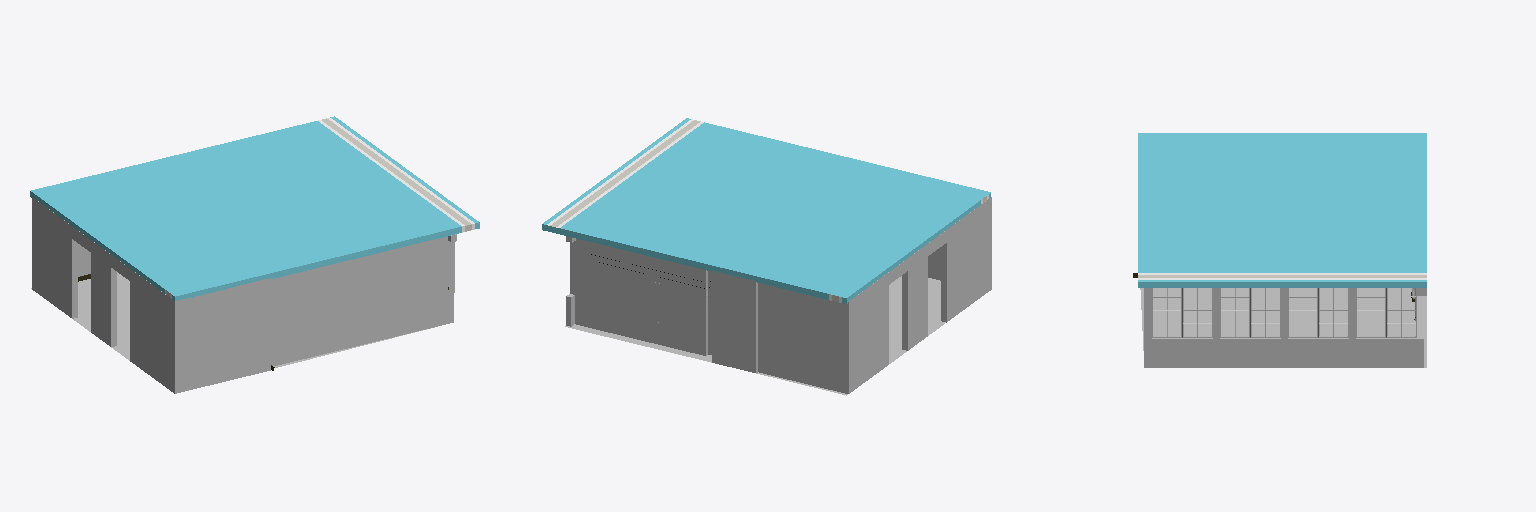
The picture shows the model from 3 angles: view 1: azimuth 30°, elevation 25°; view 2: azimuth 150°, elevation 25°; view 3: azimuth 270°, elevation 25°; orthographic projection.
Parts seen in each view (by area): view 1: ceiling_Box22.007, wall.010_Box07, wall.009_Box321, wall.005_Box343, sol_Plane01; view 2: ceiling_Box22.007, wall.008_Box13, wall.009_Box321, wall.006_Box342, sol_Plane01, wall_Box21; view 3: ceiling_Box22.007, sol_Plane01, wall.007_Box12.
Boxes of the visible parts, x1=… form: ceiling_Box22.007: x1=30, y1=116, x2=479, y2=301; wall.010_Box07: x1=271, y1=236, x2=453, y2=366; wall.009_Box321: x1=32, y1=197, x2=180, y2=393; wall.005_Box343: x1=181, y1=279, x2=267, y2=391; sol_Plane01: x1=31, y1=272, x2=434, y2=367; ceiling_Box22.007: x1=542, y1=118, x2=990, y2=303; wall.008_Box13: x1=570, y1=239, x2=749, y2=371; wall.009_Box321: x1=843, y1=197, x2=991, y2=393; wall.006_Box342: x1=758, y1=283, x2=842, y2=392; sol_Plane01: x1=565, y1=276, x2=945, y2=395; wall_Box21: x1=750, y1=280, x2=757, y2=372; ceiling_Box22.007: x1=1138, y1=133, x2=1426, y2=287; sol_Plane01: x1=1140, y1=288, x2=1426, y2=367; wall.007_Box12: x1=1144, y1=336, x2=1423, y2=367.
Bounding box in the file's own units: 10.17 × 3.1 × 8.5.
25 materials, 1 textured.